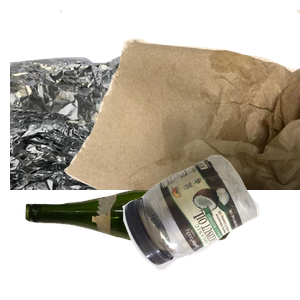glass: (23, 186, 249, 300)
metal: (10, 47, 250, 227)
plastic: (120, 152, 300, 300)
trash: (60, 10, 300, 190)
